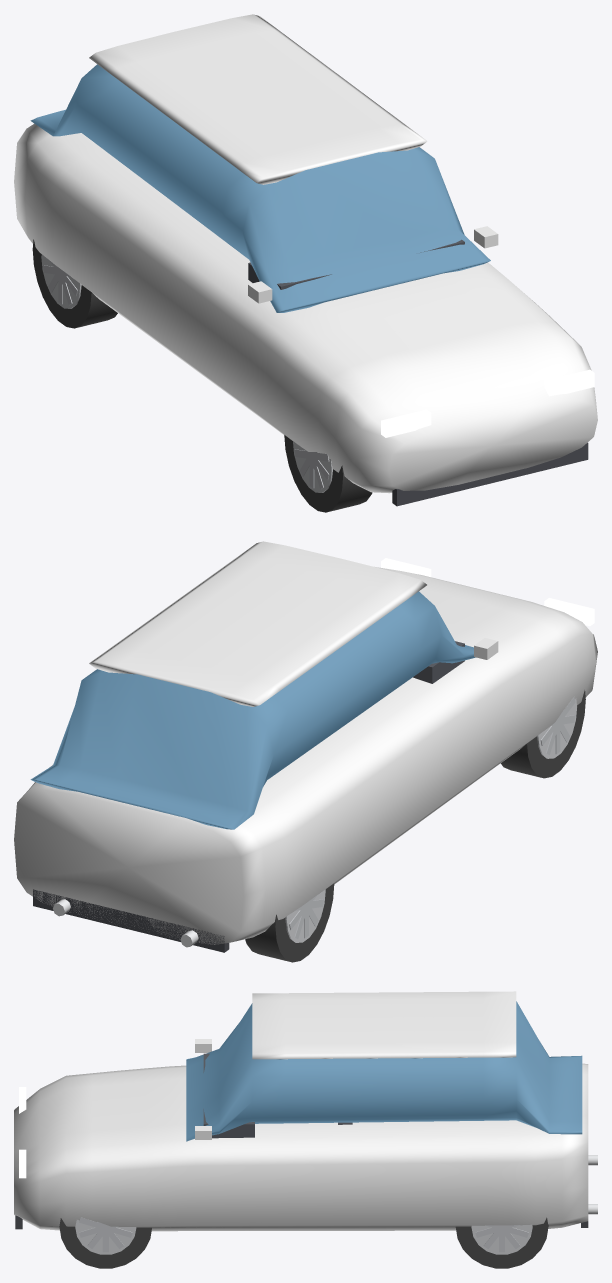
Rendered from traffic_suv.glb.
3 renders of one model, top to bottom at view 1: azimuth 30°, elevation 25°; view 2: azimuth 150°, elevation 25°; view 3: azimuth 270°, elevation 25°, orthographic. The views are drawn at different scales.
Parts seen in each view (by area): view 1: Body, Glass, Roof, Car_t_suv, Wheel_FR, Wheel_RR; view 2: Body, Glass, Roof, Car_t_suv, Wheel_RR, Wheel_FR, Interior; view 3: Body, Glass, Roof, Wheel_FL, Wheel_RL, Car_t_suv, Interior.
Boxes of the visible parts, bbox=[...] form: Body: bbox=[14, 123, 597, 493]; Glass: bbox=[30, 64, 490, 312]; Roof: bbox=[89, 14, 427, 184]; Car_t_suv: bbox=[248, 226, 594, 506]; Wheel_FR: bbox=[284, 435, 372, 512]; Wheel_RR: bbox=[32, 239, 117, 328]; Body: bbox=[14, 566, 597, 944]; Glass: bbox=[30, 591, 475, 829]; Roof: bbox=[89, 541, 426, 706]; Car_t_suv: bbox=[33, 558, 594, 952]; Wheel_RR: bbox=[245, 883, 334, 962]; Wheel_FR: bbox=[501, 690, 585, 778]; Interior: bbox=[413, 641, 464, 683]; Body: bbox=[14, 1063, 588, 1231]; Glass: bbox=[186, 1001, 582, 1141]; Roof: bbox=[252, 991, 516, 1059]; Wheel_FL: bbox=[59, 1217, 151, 1268]; Wheel_RL: bbox=[455, 1217, 548, 1268]; Car_t_suv: bbox=[15, 1039, 597, 1229]; Interior: bbox=[203, 1053, 352, 1138].
Bounding box in the file's own units: 1.9 × 1.82 × 4.78.
